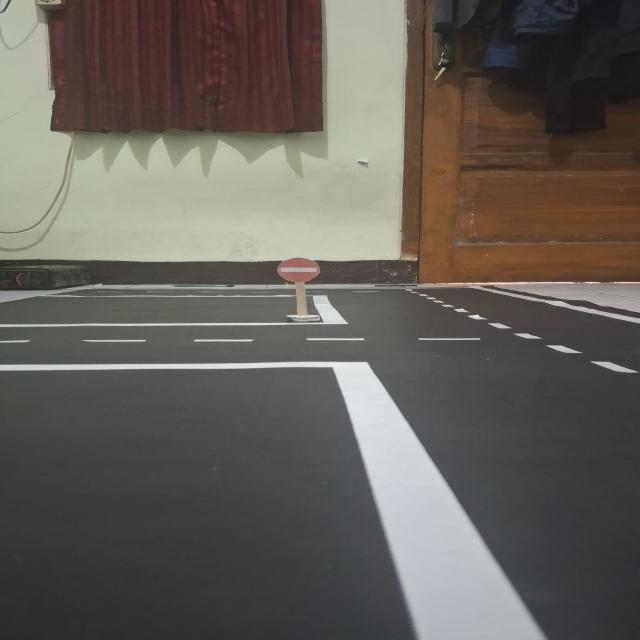Dilarang Masuk: (277, 258, 320, 282)
